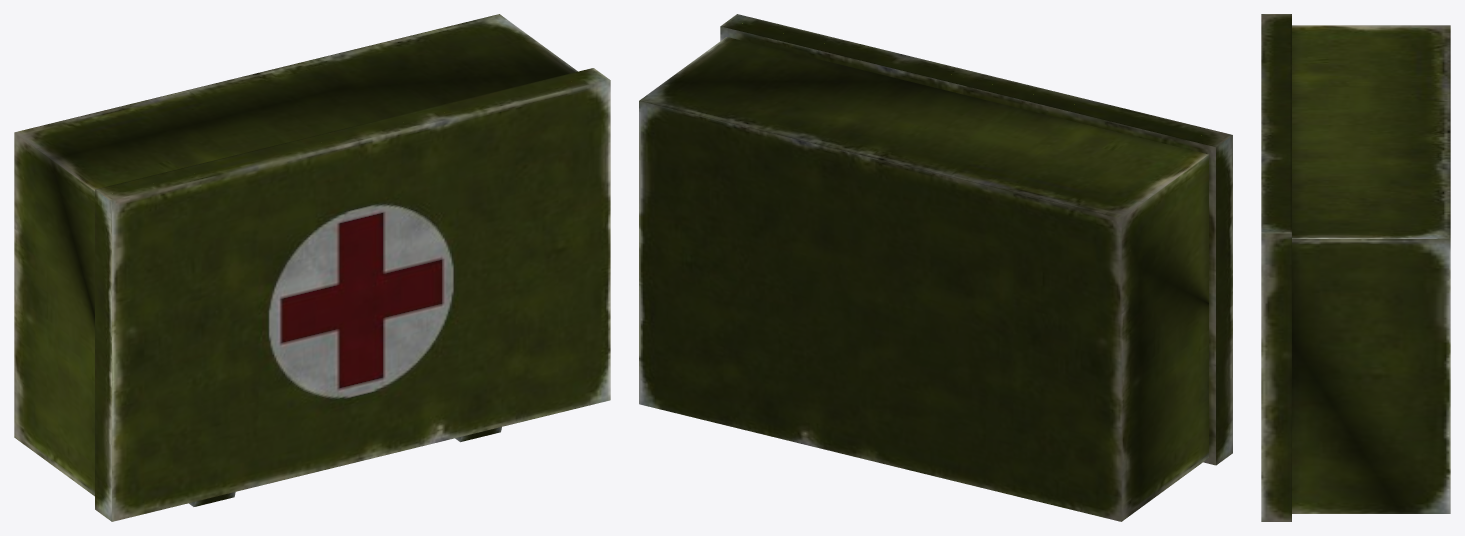
Rendered from health_medium.glb.
The picture shows the model from 3 angles, left to right: view 1: azimuth 30°, elevation 25°; view 2: azimuth 150°, elevation 25°; view 3: azimuth 270°, elevation 25°; orthographic projection. The views are drawn at different scales.
Bounding box in the file's own units: 12.41 × 8.01 × 4.52.
Materials: 1 (1 with a texture image).
